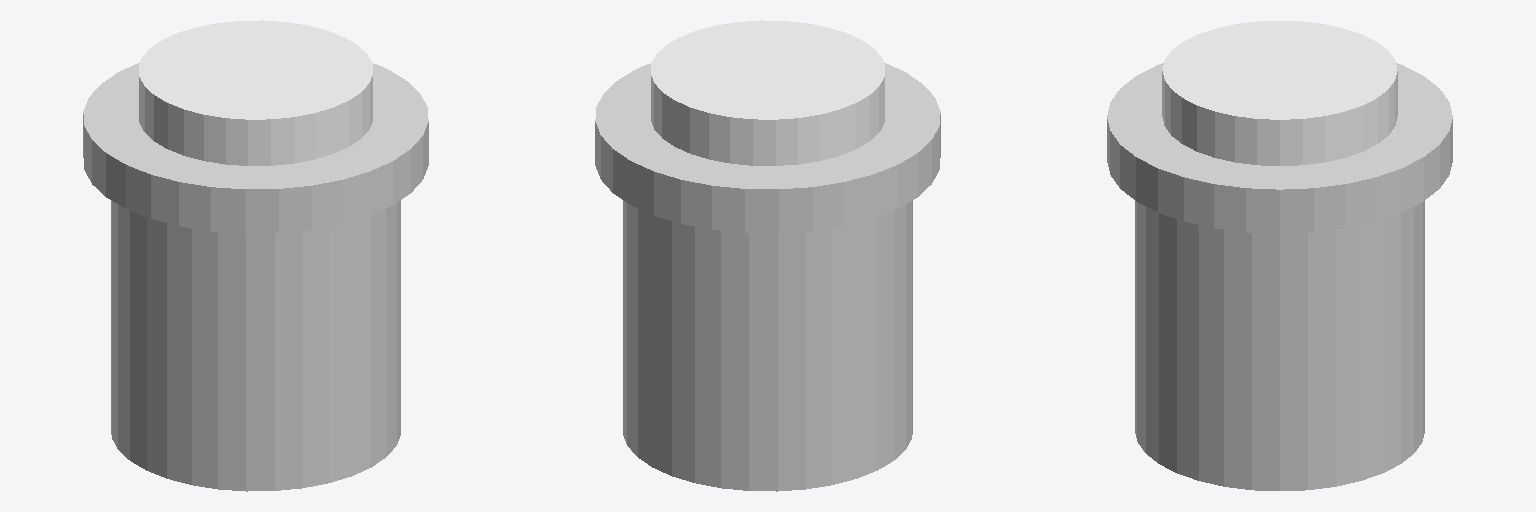
URDF robot description (button):
<?xml version="1.0" ?>
<robot name="button">
    <link name="push_link">
        <visual>
            <origin rpy="0 0 0" xyz="0 0 0.019075"/>
            <geometry>
                <cylinder radius= "0.011325" length ="0.0097" />
            </geometry>
            <material name="push_material">
                <color rgba="1 1 1 1"/>
            </material>
        </visual>
        <collision>
            <origin rpy="0 0 0" xyz="0 0 0.019075"/>
            <geometry>
                <cylinder radius= "0.011325" length ="0.0097" />
            </geometry>
        </collision>
        
        <!-- Guess reasonable values for all the links -->
        <inertial>
            <mass value=".005"/>
            <inertia ixx="1e-4" ixy="1e-4" ixz="1e-4" iyy="1e-4" iyz="1e-4" izz="1e-4"/>
        </inertial>
    </link>

    <link name="ring_link">
        <visual>
            <origin rpy="0 0 0" xyz="0 0 0.01665"/>
            <geometry>
                <cylinder radius= "0.01665" length ="0.0047" />
            </geometry>
            <material name="ring_material">
                <color rgba="0.9 0.9 0.9 0.8"/>
            </material>
        </visual>
        <collision>
            <origin rpy="0 0 0" xyz="0 0 0.01665"/>
            <geometry>
                <cylinder radius= "0.01665" length ="0.0047" />
            </geometry>
        </collision>
        
        <inertial>
            <mass value=".005"/>
            <inertia ixx="1e-4" ixy="1e-4" ixz="1e-4" iyy="1e-4" iyz="1e-4" izz="1e-4"/>
        </inertial>
    </link>

    <link name="base_link">
        <visual>
            <origin rpy="0 0 0" xyz="0 0 0" />
            <geometry>
                <cylinder radius= "0.014" length ="0.0286" />
            </geometry>
            <material name="base_material">
                <color rgba="0.9 0.9 0.9 1"/>
            </material>
        </visual>
        <collision>
            <origin rpy="0 0 0" xyz="0 0 0" />
            <geometry>
                <cylinder radius= "0.014" length ="0.0286" />
            </geometry>
        </collision>
        
        <inertial>
            <mass value=".005"/>
            <inertia ixx="1e-4" ixy="1e-4" ixz="1e-4" iyy="1e-4" iyz="1e-4" izz="1e-4"/>
        </inertial>
    </link>

    <joint name="base_link_joint" type="fixed">
        <origin rpy="0 0 0" xyz="0 0 0"/>
        <parent link="base_link"/>
        <child link="ring_link"/>
    </joint>

    <joint name="ring_joint" type="prismatic">
        <origin rpy="0 0 0" xyz="0 0 0"/>
        <parent link="ring_link"/>
        <child link="push_link"/>
        <axis xyz="0 0 1"/>
        <limit lower="-0.0041" upper="0" effort="0.2" velocity="0.5" />
    </joint>
</robot>

--- Facts derived from the render (not from the file) ---
3 views of the same robot in one strip: view 1: azimuth 30°, elevation 25°; view 2: azimuth 150°, elevation 25°; view 3: azimuth 270°, elevation 25° (orthographic).
Model button with 3 links and 2 joints (1 prismatic, 1 fixed), rooted at base_link, posed all joints at 0.
Visible links, largest first — view 1: base_link, ring_link, push_link; view 2: base_link, ring_link, push_link; view 3: base_link, ring_link, push_link.
Boxes of the visible links, <box> form: base_link: <box>111,200,400,491</box>; ring_link: <box>83,63,428,233</box>; push_link: <box>139,20,372,165</box>; base_link: <box>623,200,912,491</box>; ring_link: <box>595,63,940,233</box>; push_link: <box>651,20,884,165</box>; base_link: <box>1135,201,1424,490</box>; ring_link: <box>1107,63,1452,233</box>; push_link: <box>1162,21,1397,165</box>.
Size in the robot's own frame: 0.0333 by 0.0333 by 0.0382 metres.
Geometry: primitives only (box / cylinder / sphere), no mesh files.